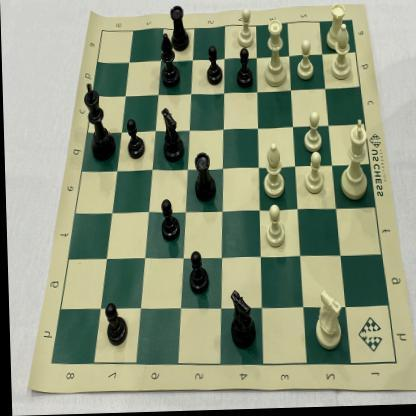black-bishop: (158, 31, 180, 91)
black-king: (81, 77, 117, 166)
black-knight: (224, 284, 255, 353), (156, 103, 185, 167)
black-pawn: (182, 248, 210, 301), (101, 296, 127, 348), (156, 192, 181, 246), (123, 114, 148, 163), (201, 45, 226, 90), (234, 46, 256, 91)
black-rook: (188, 144, 219, 210), (166, 0, 193, 55)
white-bishop: (258, 139, 288, 205), (326, 20, 354, 88)
white-king: (334, 118, 375, 205)
white-knight: (308, 288, 346, 356)
white-pawn: (260, 200, 288, 253), (300, 150, 326, 200), (292, 37, 317, 86), (233, 5, 258, 52), (302, 108, 324, 156)
white-queen: (259, 15, 289, 92)
white-rook: (322, 1, 350, 55)
